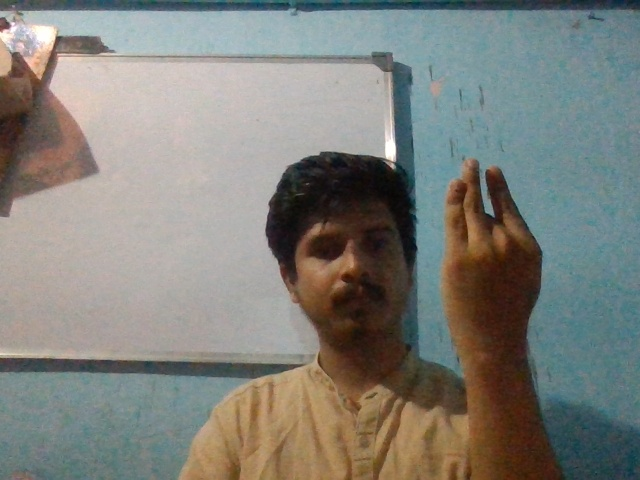Akash: (429, 153, 559, 362)
